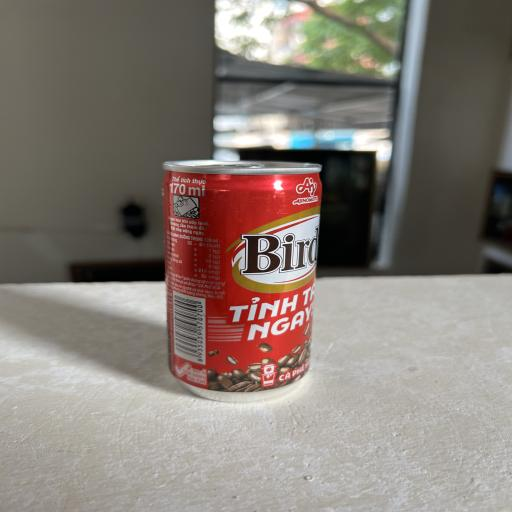birdy: (158, 158, 328, 404)
